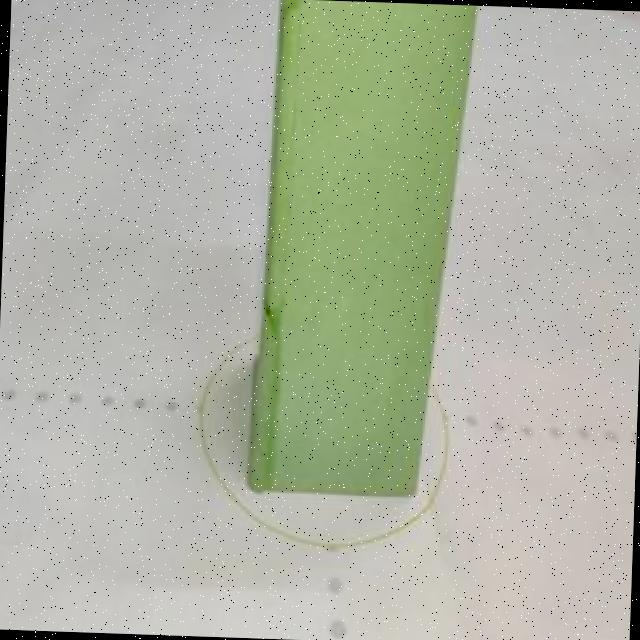greenbox: (248, 0, 485, 497)
